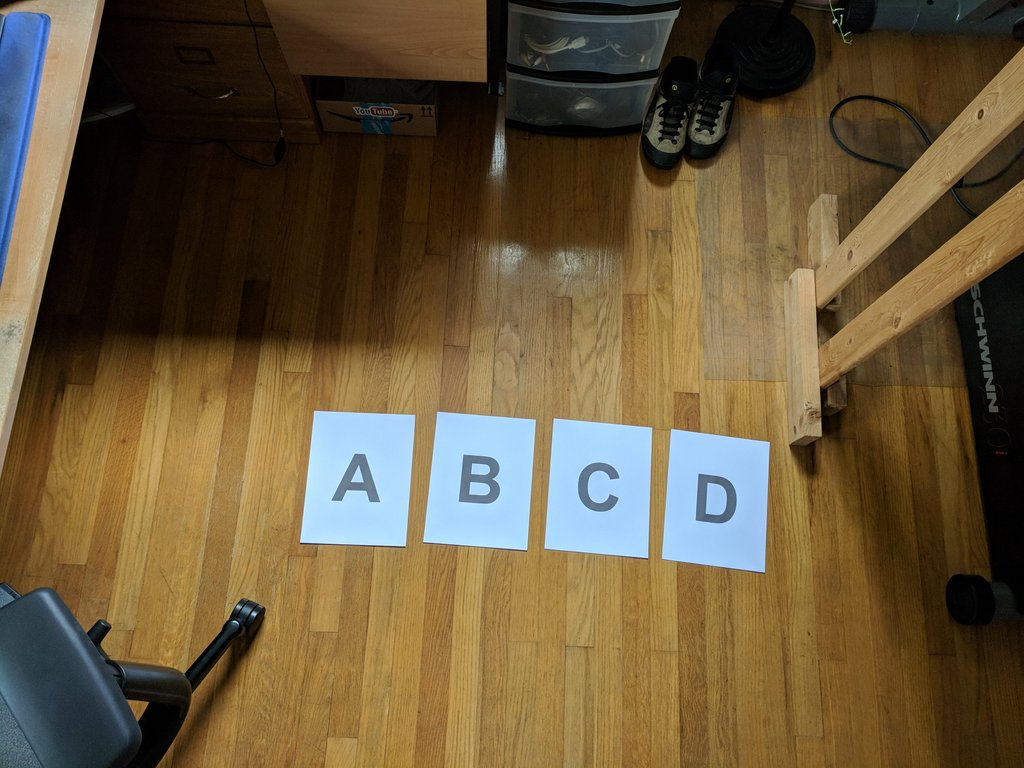home: (458, 452, 500, 504)
